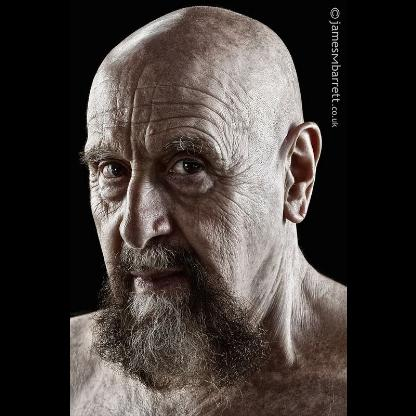Male: (81, 6, 321, 374)
